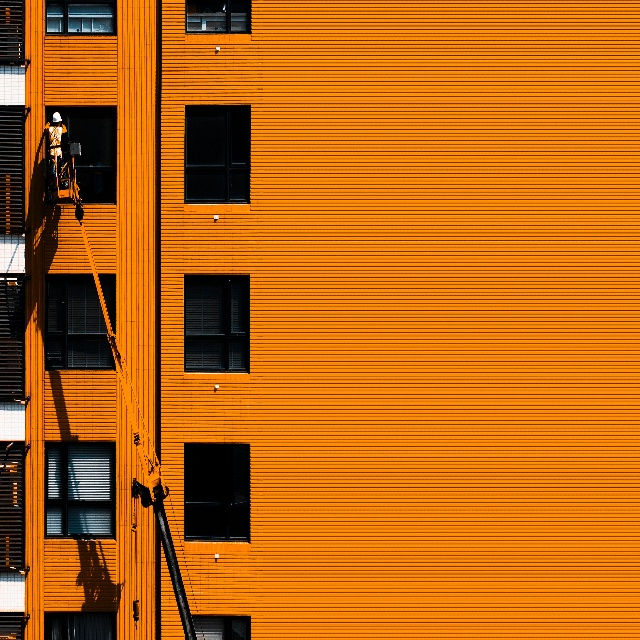Guantes: (61, 123, 66, 130)
